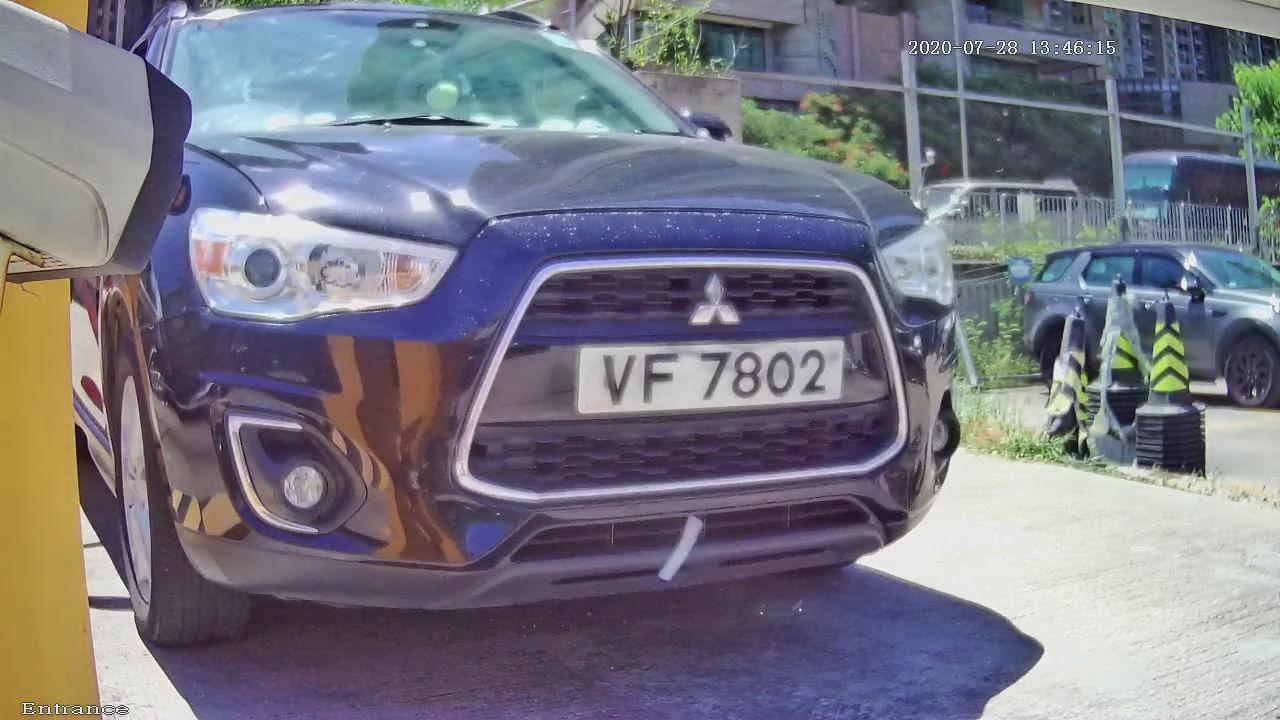privatecar: (12, 20, 1132, 701)
